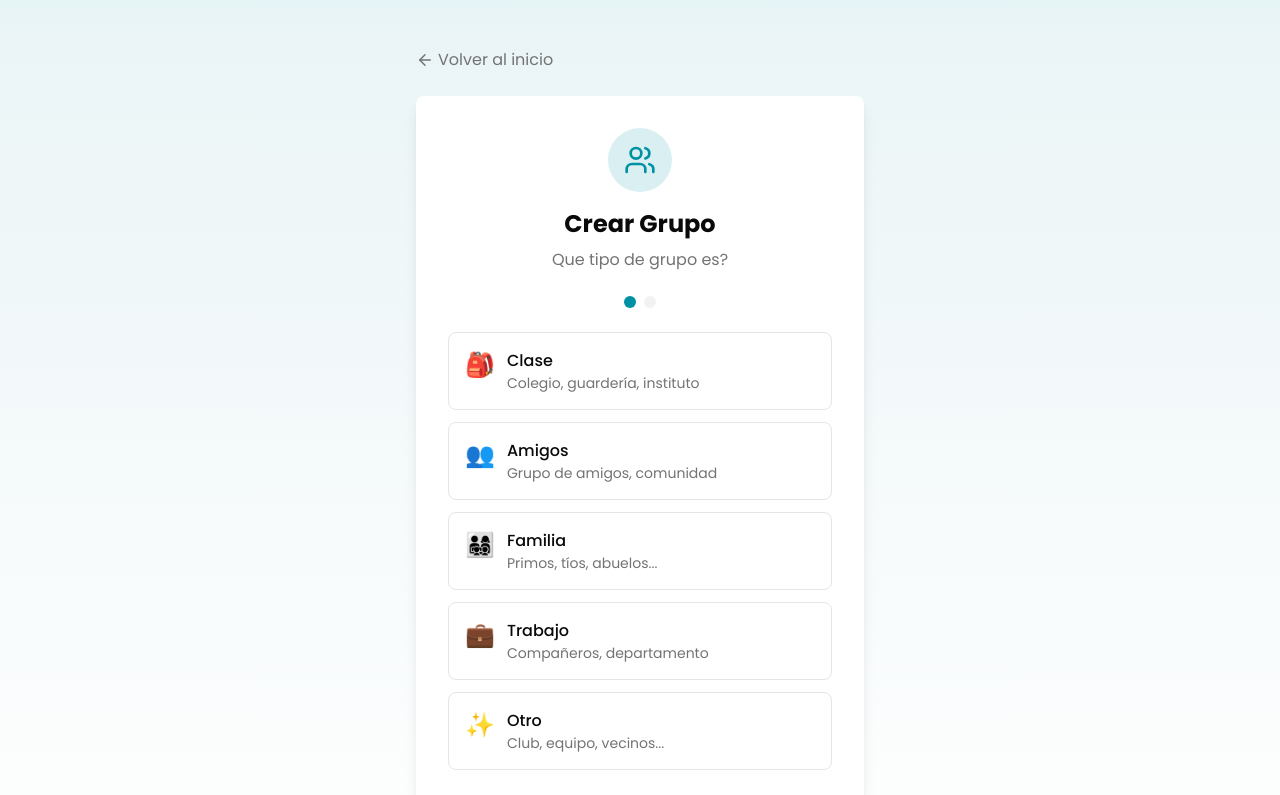
Scenario: CreateGroupPage › Step 1: Group Type Selection › avanza al paso 2 al seleccionar tipo Familia
The width and height of the screenshot is (1280, 795).
What coordinates should you click on to do the following:
click the text "Familia"
I would click on:
 (536, 540)
Its box is [507,529,566,552].
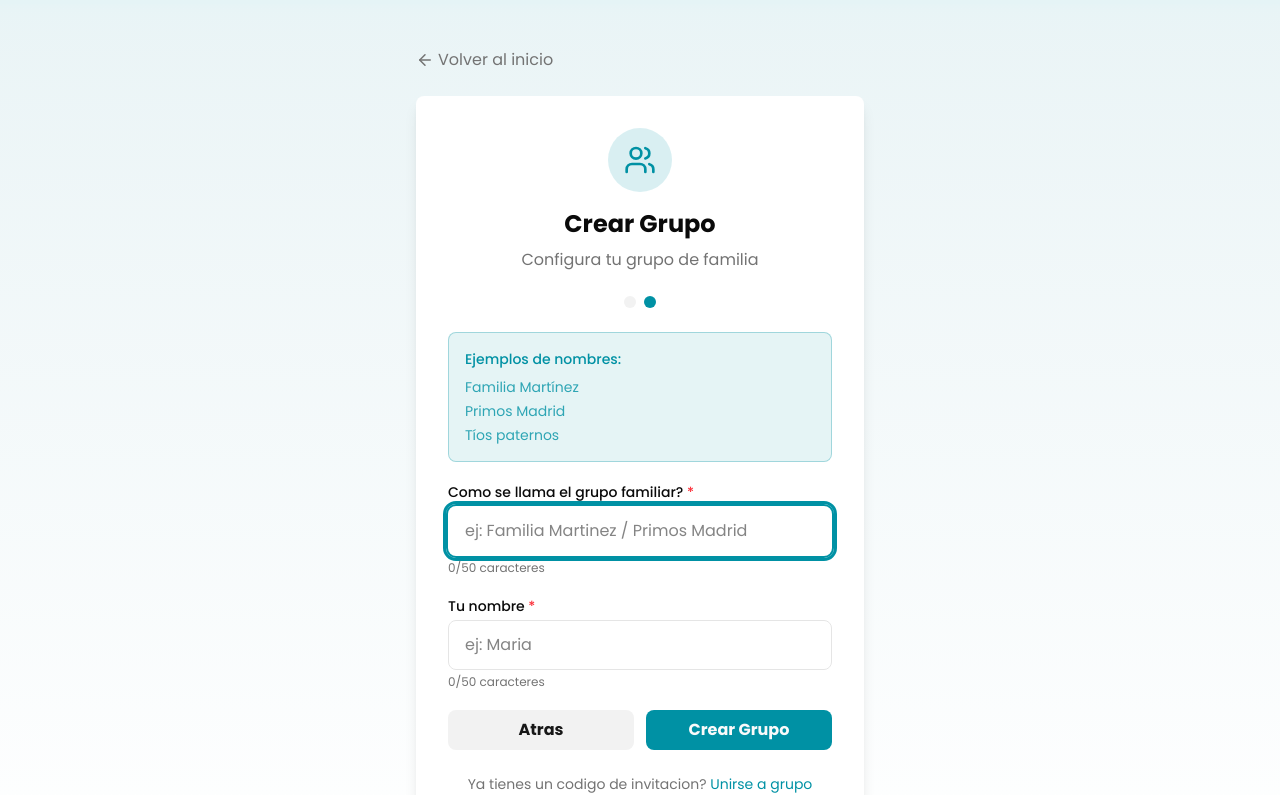
expect the text "Configura tu grupo de familia" is shown: met, box [522,248,758,271]
expect the text "Como se llama el grupo familiar? *" is shown: met, box [448,482,694,502]
